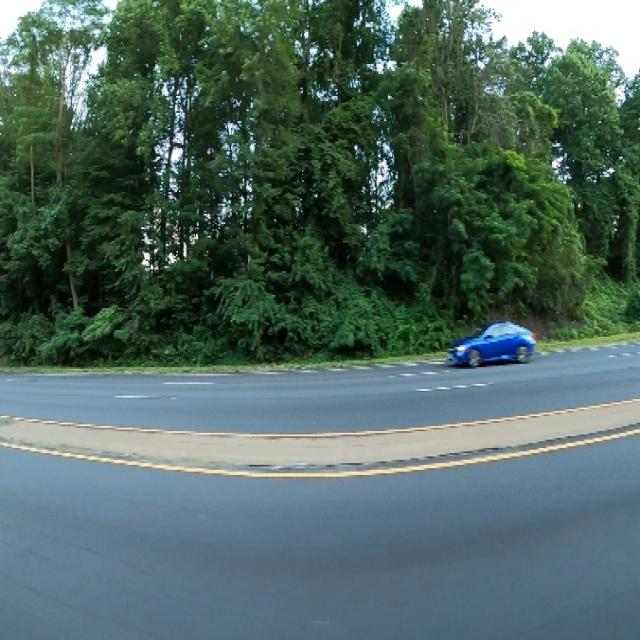car: (437, 302, 543, 378)
